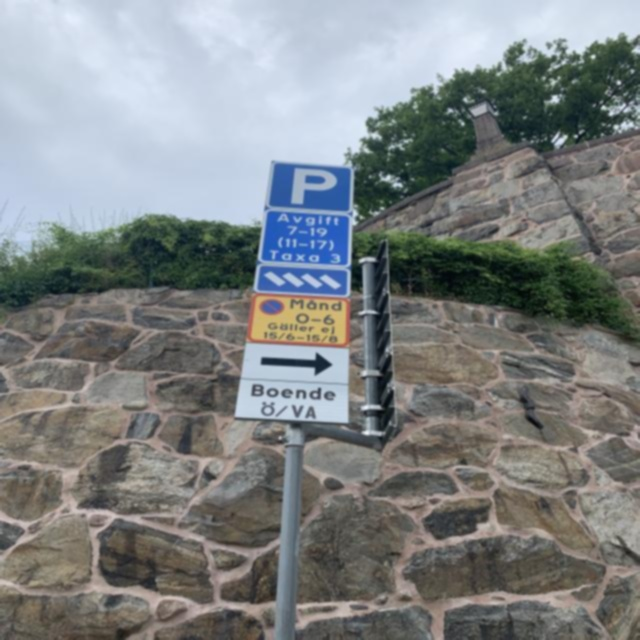P-skylt: (264, 159, 355, 215)
